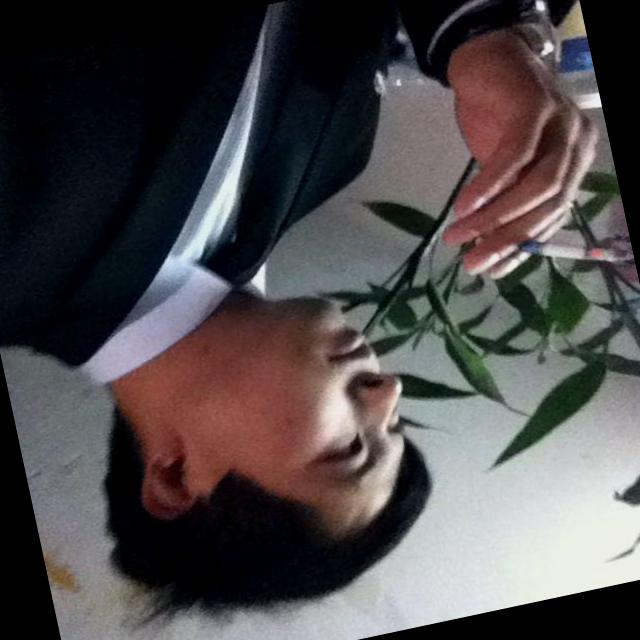cigarette: (503, 208, 630, 282)
